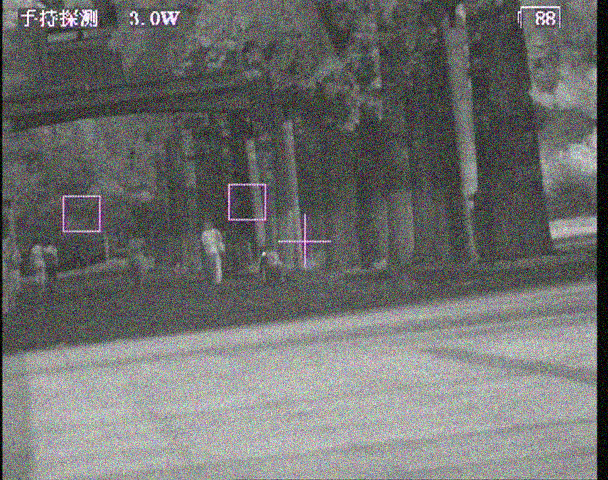my: (260, 250, 268, 257)
